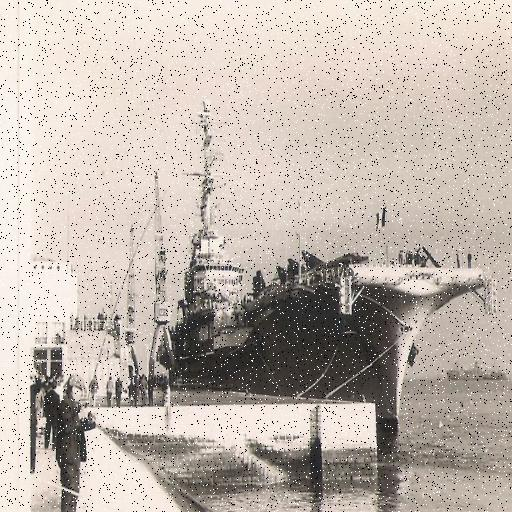Portanaves: (146, 92, 498, 438)
